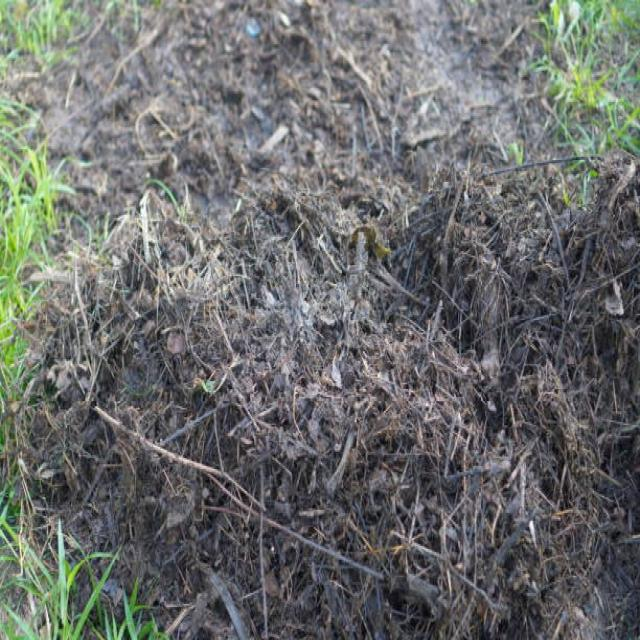paper: (235, 240, 424, 451), (0, 99, 70, 254)
